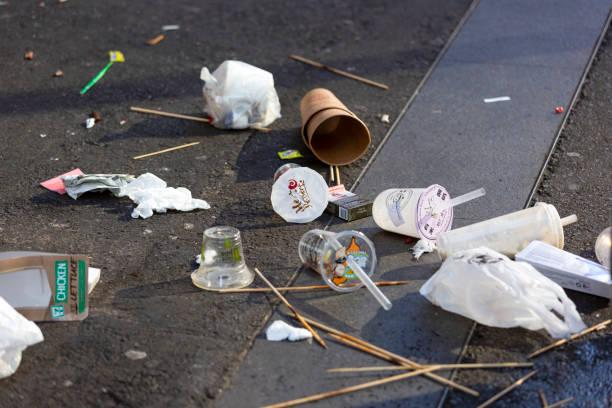trash: (408, 241, 581, 347), (427, 189, 586, 274), (44, 160, 208, 222), (182, 54, 302, 136), (0, 241, 115, 325), (507, 218, 612, 306), (291, 75, 382, 171), (360, 173, 488, 240), (177, 214, 277, 297), (289, 216, 394, 289), (262, 157, 356, 227), (67, 36, 144, 105), (0, 296, 54, 384), (310, 174, 387, 227), (254, 319, 323, 347), (143, 27, 170, 49)
